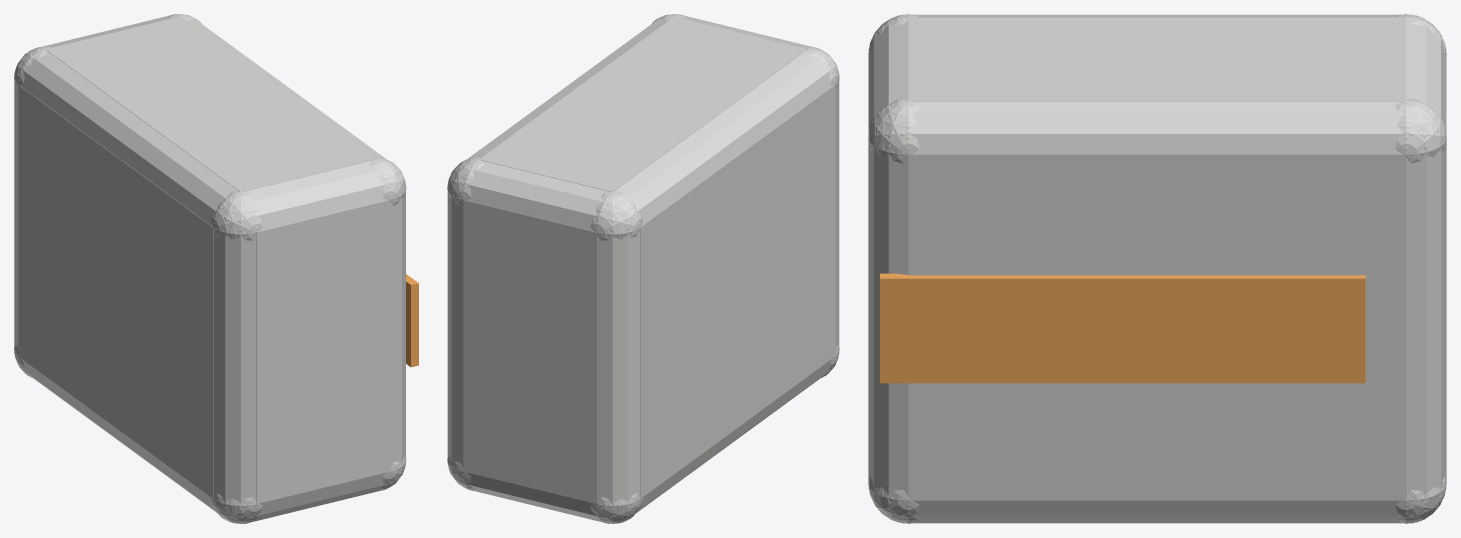
Rendered from torso.glb.
The picture shows the model from 3 angles, left to right: view 1: azimuth 30°, elevation 25°; view 2: azimuth 150°, elevation 25°; view 3: azimuth 270°, elevation 25°; orthographic projection. The views are drawn at different scales.
Visible parts, largest first — view 1: torso_x_visual, torso_z_visual, torso_y_visual, torso_edge5_visual, torso_edge9_visual, torso_edge3_visual, torso_edge7_visual, torso_edge8_visual, torso_edge1_visual, torso_edge11_visual, torso_edge4_visual, shirt_front_visual (+1 smaller); view 2: torso_x_visual, torso_z_visual, torso_y_visual, torso_edge4_visual, torso_edge9_visual, torso_edge2_visual, torso_edge6_visual, torso_edge8_visual, torso_edge0_visual, torso_edge11_visual, torso_edge5_visual, torso_edge3_visual; view 3: torso_x_visual, shirt_front_visual, torso_y_visual, torso_edge11_visual, torso_edge6_visual, torso_edge10_visual, torso_edge7_visual, torso_edge2_visual, torso_edge3_visual, torso_edge9_visual, torso_edge0_visual, torso_edge1_visual (+1 smaller).
Boxes of the visible parts, x1,y1,x2,y2 form: torso_x_visual: (18,85,213,498); torso_z_visual: (256,200,390,503); torso_y_visual: (46,16,374,191); torso_edge5_visual: (213,191,257,523); torso_edge9_visual: (14,47,263,240); torso_edge3_visual: (210,158,406,239); torso_edge7_visual: (369,157,405,490); torso_edge8_visual: (14,349,263,523); torso_edge1_visual: (210,457,406,523); torso_edge11_visual: (171,14,406,205); torso_edge4_visual: (14,46,50,378); shirt_front_visual: (406,274,418,367); torso_x_visual: (640,85,835,498); torso_z_visual: (463,200,596,503); torso_y_visual: (479,16,807,191); torso_edge4_visual: (596,191,640,523); torso_edge9_visual: (590,47,839,240); torso_edge2_visual: (447,158,642,239); torso_edge6_visual: (447,157,483,490); torso_edge8_visual: (590,349,839,523); torso_edge0_visual: (447,457,642,523); torso_edge11_visual: (447,14,682,205); torso_edge5_visual: (803,46,839,377); torso_edge3_visual: (653,14,839,90); torso_x_visual: (908,154,1406,500); shirt_front_visual: (880,273,1365,383); torso_y_visual: (908,17,1406,101); torso_edge11_visual: (868,101,1446,157); torso_edge6_visual: (1395,98,1446,523); torso_edge10_visual: (868,476,1446,523); torso_edge7_visual: (868,98,919,523); torso_edge2_visual: (1395,14,1446,163); torso_edge3_visual: (868,14,919,163); torso_edge9_visual: (868,14,1446,55); torso_edge0_visual: (1395,484,1446,523); torso_edge1_visual: (868,484,919,523).
Bounding box in the file's own units: 0.247 × 0.4 × 0.5.
